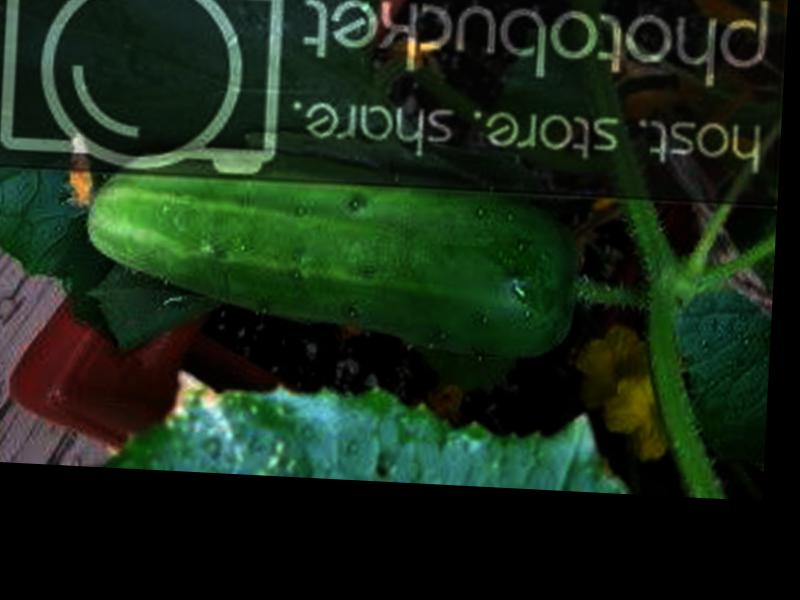Cucumber: (76, 140, 578, 362)
